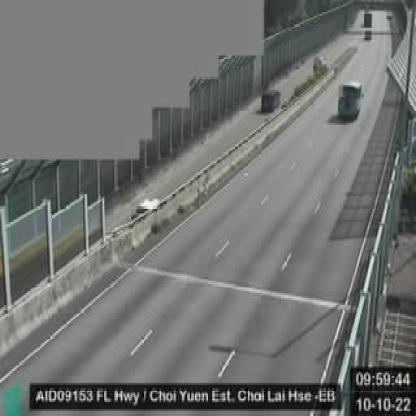Car: (262, 88, 280, 110)
Truck: (338, 78, 362, 119)
